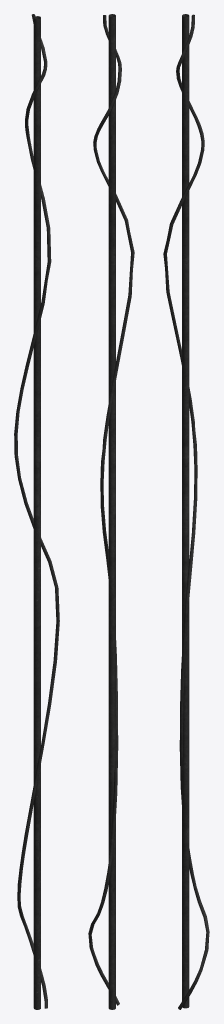
The model's file is SM_LampB_C.fbx.
3 renders of one model, left to right at view 1: azimuth 90°, elevation 25°; view 2: azimuth 150°, elevation 25°; view 3: azimuth 330°, elevation 25°, orthographic.
Parts seen in each view (by area): view 1: SM_LampB_C_LOD0; view 2: SM_LampB_C_LOD0; view 3: SM_LampB_C_LOD0.
Part boxes in pixels (x1,y1,x2,y2): SM_LampB_C_LOD0: (14,14,59,1009); SM_LampB_C_LOD0: (88,14,134,1009); SM_LampB_C_LOD0: (163,14,209,1009).
Size of the model in its own units: 7.51 by 8.37 by 200.
Materials: 1 (1 with a texture image).
